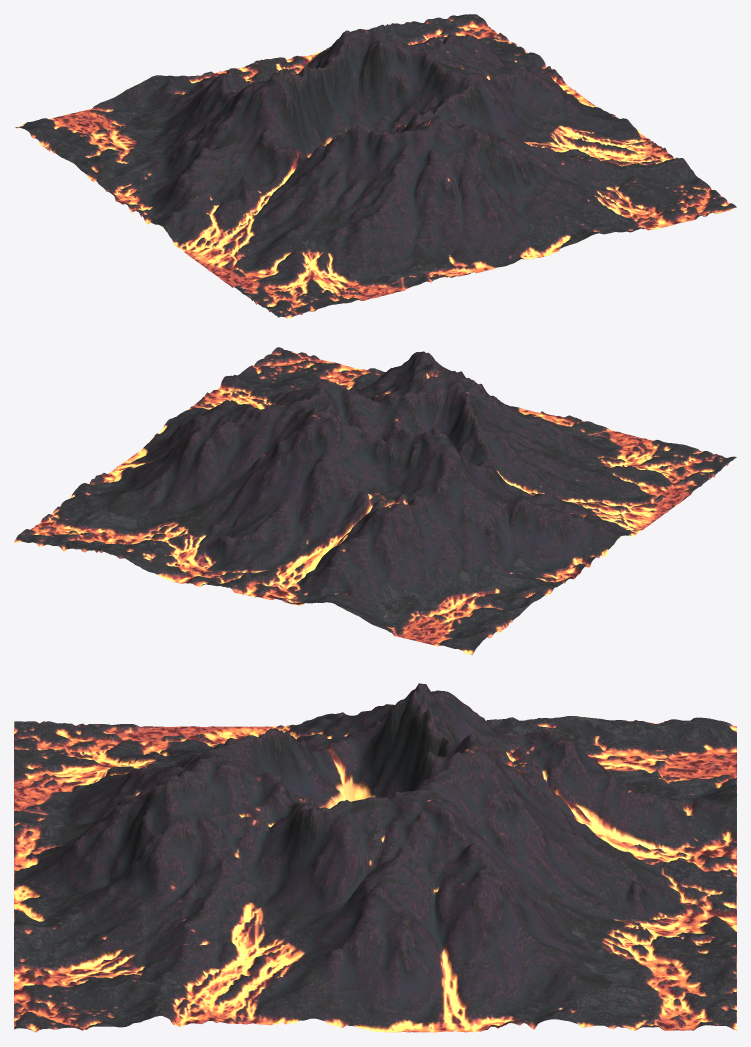
Rendered from volcano_v1 (2).glb.
3 renders of one model, top to bottom at view 1: azimuth 30°, elevation 25°; view 2: azimuth 150°, elevation 25°; view 3: azimuth 270°, elevation 25°, orthographic. The views are drawn at different scales.
Visible parts, largest first — view 1: Volcano_001; view 2: Volcano_001; view 3: Volcano_001.
Part boxes in pixels (x1,y1,x2,y2): Volcano_001: [15, 14, 736, 318]; Volcano_001: [14, 347, 736, 654]; Volcano_001: [14, 683, 736, 1032].
Size of the model in its own units: 2 by 0.4631 by 2.
1 material, 1 textured.
